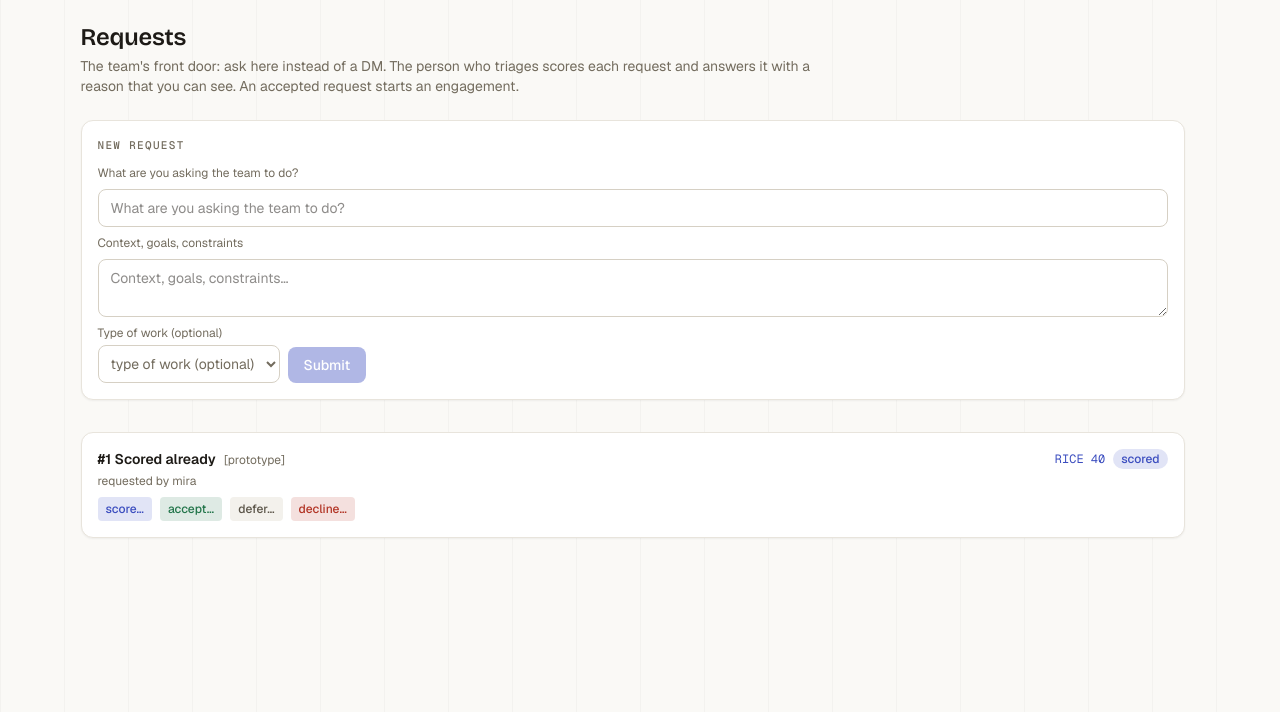
Test case: who the projection can be run against › offers active people only, never agents or departed teammates
Click the button "accept…" at (191, 509), box [160,497,222,521]
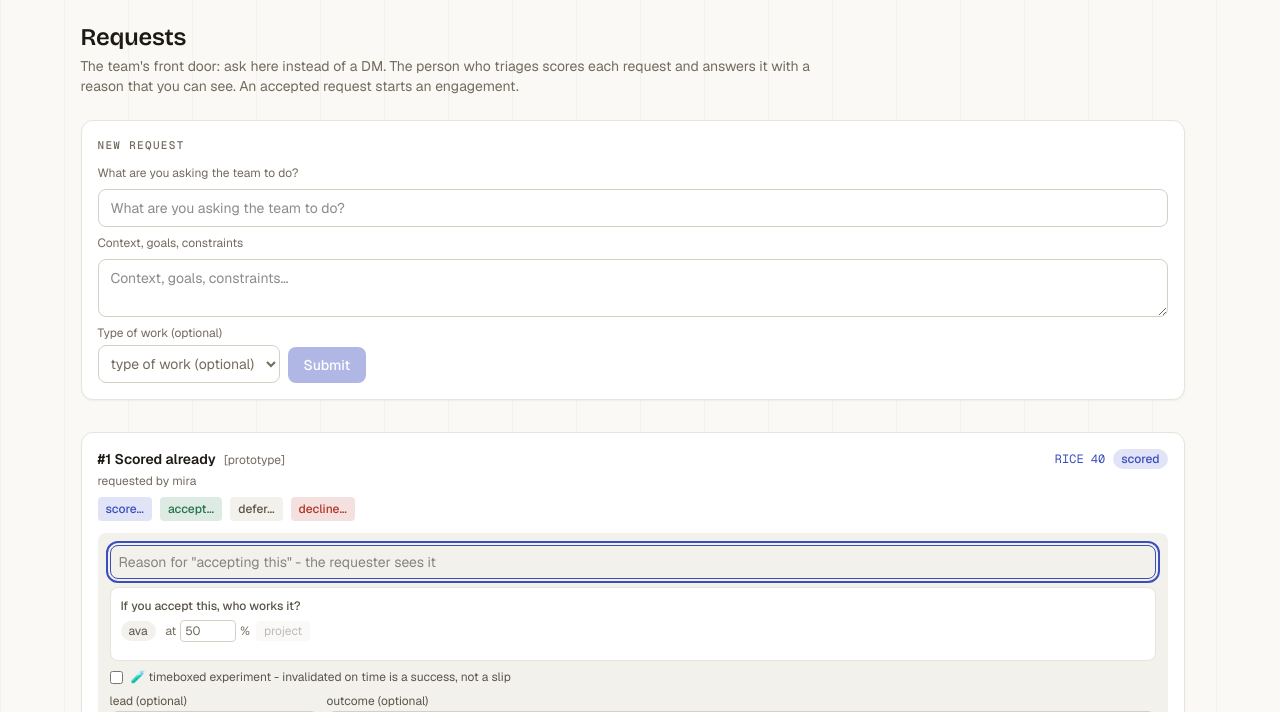
Check: the button "ava" is shown, box [120,621,156,641]
